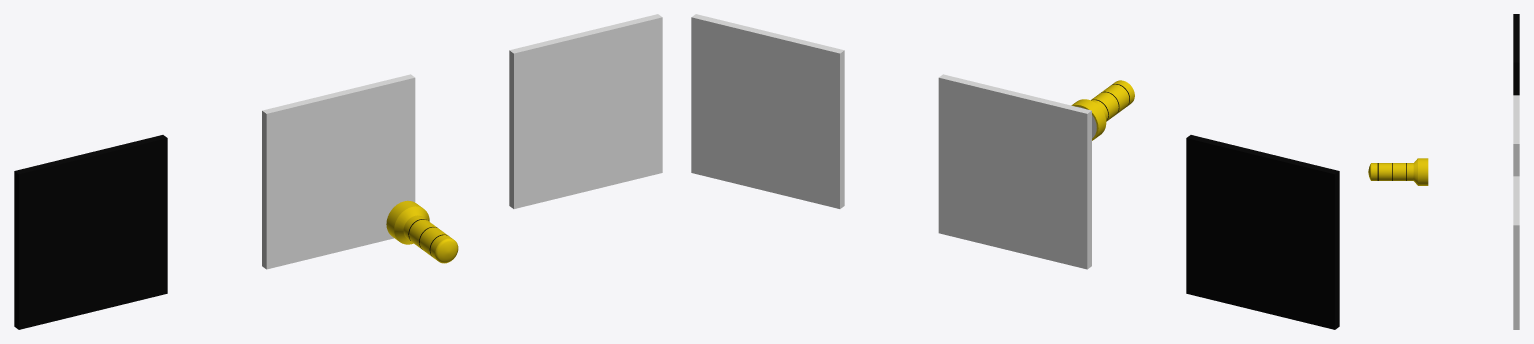
The model's file is Torch file.fbx.
3 views of the same model, side by side, from view 1: azimuth 30°, elevation 25°; view 2: azimuth 150°, elevation 25°; view 3: azimuth 270°, elevation 25° (orthographic). The views are drawn at different scales.
Visible parts, largest first — view 1: Cube.001, Cube.002, Cube, Cylinder.006; view 2: Cube, Cube.001, Cube.002, Cylinder.006; view 3: Cylinder.006, Cube.002, Cube, Cube.001.
Part boxes in pixels (x1=…): Cube.001: x1=14, y1=135, x2=167, y2=329; Cube.002: x1=509, y1=14, x2=662, y2=208; Cube: x1=262, y1=74, x2=415, y2=269; Cylinder.006: x1=386, y1=200, x2=458, y2=263; Cube: x1=938, y1=74, x2=1091, y2=269; Cube.001: x1=1186, y1=135, x2=1339, y2=329; Cube.002: x1=691, y1=14, x2=844, y2=208; Cylinder.006: x1=1071, y1=80, x2=1134, y2=140; Cylinder.006: x1=1368, y1=158, x2=1428, y2=185; Cube.002: x1=1513, y1=176, x2=1519, y2=329; Cube: x1=1513, y1=95, x2=1519, y2=176; Cube.001: x1=1513, y1=14, x2=1519, y2=95.
Size of the model in its own units: 861 by 199 by 260.
